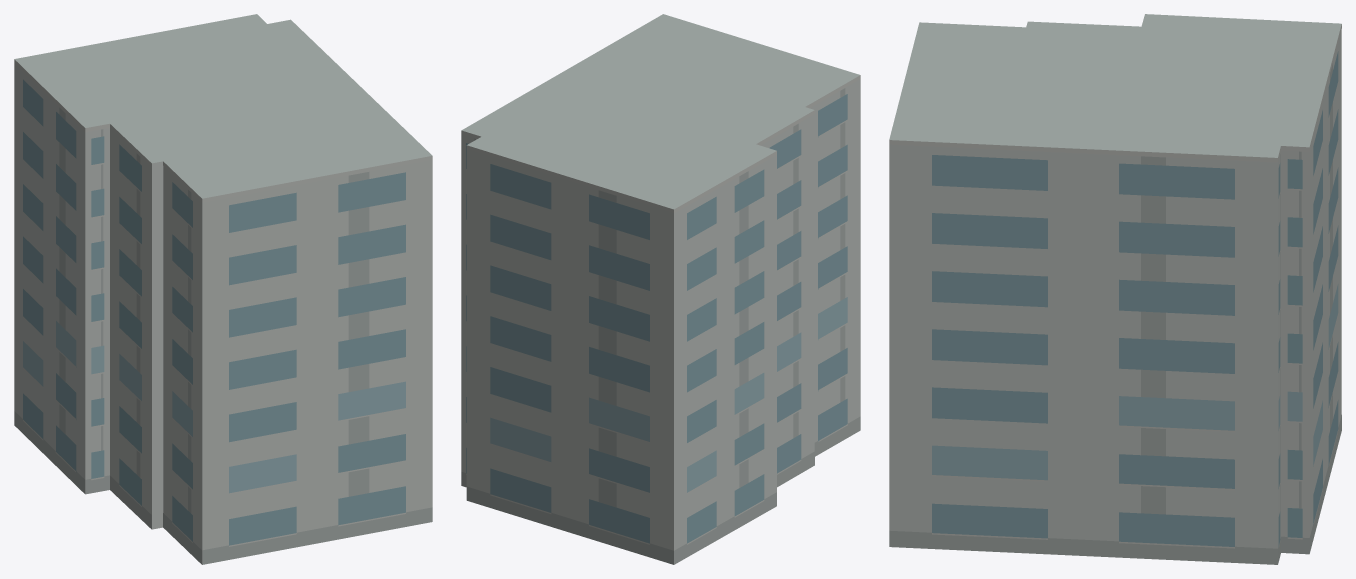
Rendered from survey-upis-32823250.glb.
The picture shows the model from 3 angles, left to right: view 1: azimuth 30°, elevation 25°; view 2: azimuth 150°, elevation 25°; view 3: azimuth 270°, elevation 25°; orthographic projection. The views are drawn at different scales.
Visible parts, largest first — view 1: survey-upis-32823250.tmp; view 2: survey-upis-32823250.tmp; view 3: survey-upis-32823250.tmp.
Boxes of the visible parts, x1,y1,x2,y2 form: survey-upis-32823250.tmp: (14,14,432,564); survey-upis-32823250.tmp: (461,14,860,564); survey-upis-32823250.tmp: (889,14,1341,564).
Size of the model in its own units: 16.09 by 21.2 by 21.38.
